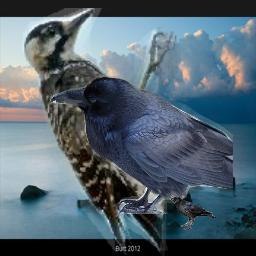Crow: (50, 76, 233, 214), (170, 196, 216, 230)
Woodpecker: (20, 8, 177, 256)
